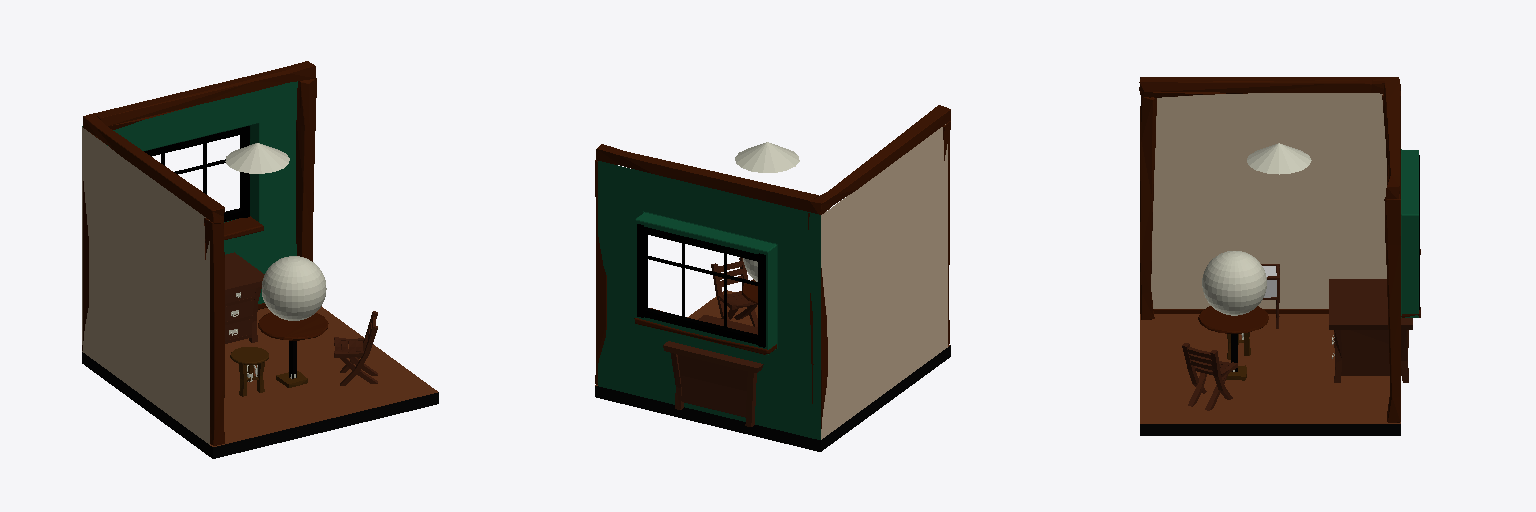
Rendered from room2.obj.
The picture shows the model from 3 angles: view 1: azimuth 30°, elevation 25°; view 2: azimuth 150°, elevation 25°; view 3: azimuth 270°, elevation 25°; orthographic projection.
Parts seen in each view (by area): view 1: Wall2, Floor, Wall1, Ground_Plate, Beam5, Beam3, Sphere, Beam2, Beam4, Dresser.001, Table.001, Wooden_Chair.001 (+6 smaller); view 2: Wall1, Wall2, Dresser.001, Ground_Plate, Beam5, Beam4, 円錐, Wooden_Chair.001, Beam2, Cube.009, Beam2.001, Cube.007 (+5 smaller); view 3: Wall2, Floor, Dresser.001, Beam4, Sphere, Ground_Plate, Beam3, Beam2, Wall1, Wooden_Chair.001, Table.001, Beam5 (+3 smaller).
Boxes of the visible parts, x1,y1,x2,y2 form: Wall2: [82, 127, 209, 444]; Floor: [210, 306, 437, 446]; Wall1: [82, 81, 297, 303]; Ground_Plate: [82, 352, 438, 458]; Beam5: [94, 61, 315, 129]; Beam3: [204, 218, 224, 445]; Sphere: [262, 256, 326, 320]; Beam2: [296, 78, 316, 261]; Beam4: [83, 113, 224, 223]; Dresser.001: [225, 252, 264, 343]; Table.001: [258, 312, 328, 387]; Wooden_Chair.001: [334, 311, 377, 385]; Wall1: [598, 161, 820, 439]; Wall2: [821, 124, 947, 439]; Dresser.001: [663, 315, 763, 426]; Ground_Plate: [595, 345, 950, 451]; Beam5: [596, 144, 818, 211]; Beam4: [810, 105, 950, 214]; 円錐: [735, 142, 799, 172]; Wooden_Chair.001: [711, 257, 757, 326]; Beam2: [595, 160, 614, 384]; Cube.009: [644, 308, 757, 344]; Beam2.001: [808, 213, 827, 428]; Cube.007: [637, 224, 647, 317]; Wall2: [1151, 93, 1386, 308]; Floor: [1140, 314, 1400, 423]; Dresser.001: [1329, 279, 1412, 382]; Beam4: [1139, 77, 1400, 97]; Sphere: [1202, 251, 1266, 315]; Ground_Plate: [1140, 424, 1400, 435]; Beam3: [1140, 97, 1156, 319]; Beam2: [1384, 194, 1400, 422]; Wall1: [1401, 149, 1418, 317]; Wooden_Chair.001: [1182, 343, 1237, 410]; Table.001: [1198, 306, 1268, 380]; Beam5: [1384, 81, 1399, 199].
Size of the model in its own units: 8.08 by 8.42 by 8.63.